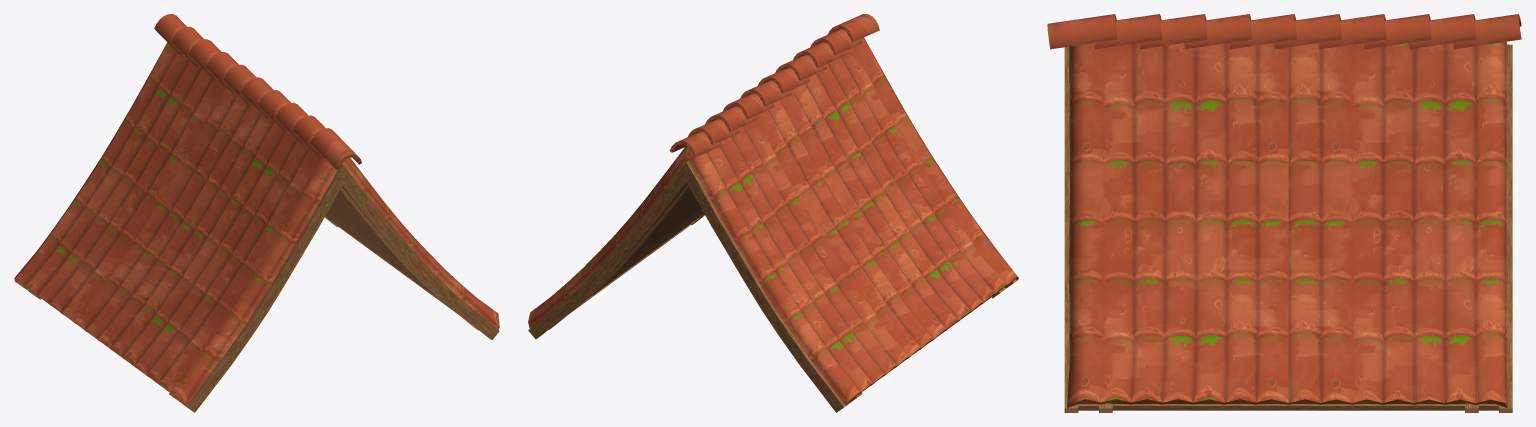
File: Roof_RoundTiles_6x6.gltf
3 views of the same model, side by side, from view 1: azimuth 30°, elevation 25°; view 2: azimuth 150°, elevation 25°; view 3: azimuth 270°, elevation 25° (orthographic). The views are drawn at different scales.
Visible parts, largest first — view 1: Roof_RoundTiles_6x6; view 2: Roof_RoundTiles_6x6; view 3: Roof_RoundTiles_6x6.
Boxes of the visible parts, box(x1,y1,x2,y2) form: Roof_RoundTiles_6x6: box(14, 14, 499, 412); Roof_RoundTiles_6x6: box(528, 14, 1018, 412); Roof_RoundTiles_6x6: box(1047, 14, 1521, 412).
Bounding box in the file's own units: 8.25 × 5.67 × 8.03.
Materials: 2 (2 with a texture image).
